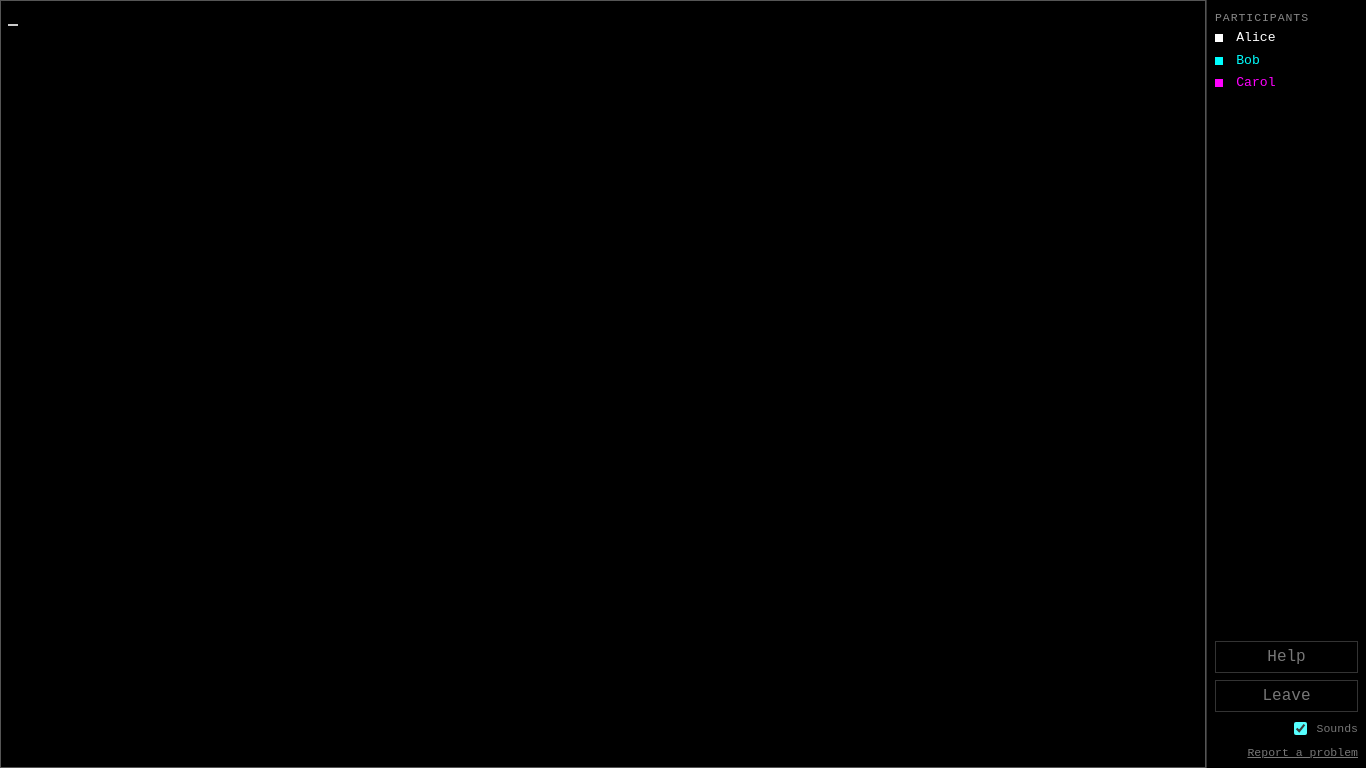
Sending a private message › while disconnected the text is kept and a notice shows
This screenshot has width=1366, height=768.
Expected: the text "Carol" is shown, [1236,72,1276,94]
Click the button "Bob" at (1286, 61), box [1215,50,1358,72]
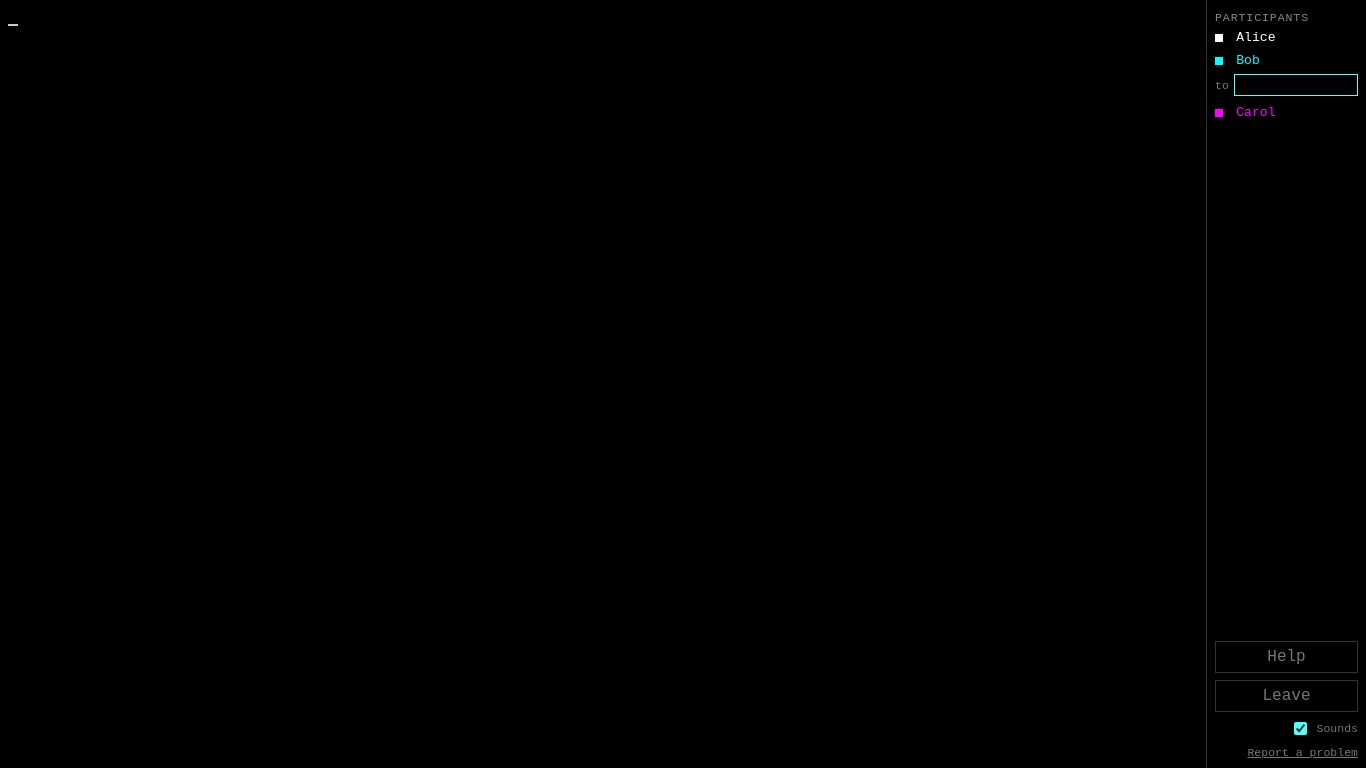
Type "lunch?" into the field named "Private message to Bob" at (1296, 85), box [1234,74,1358,96]
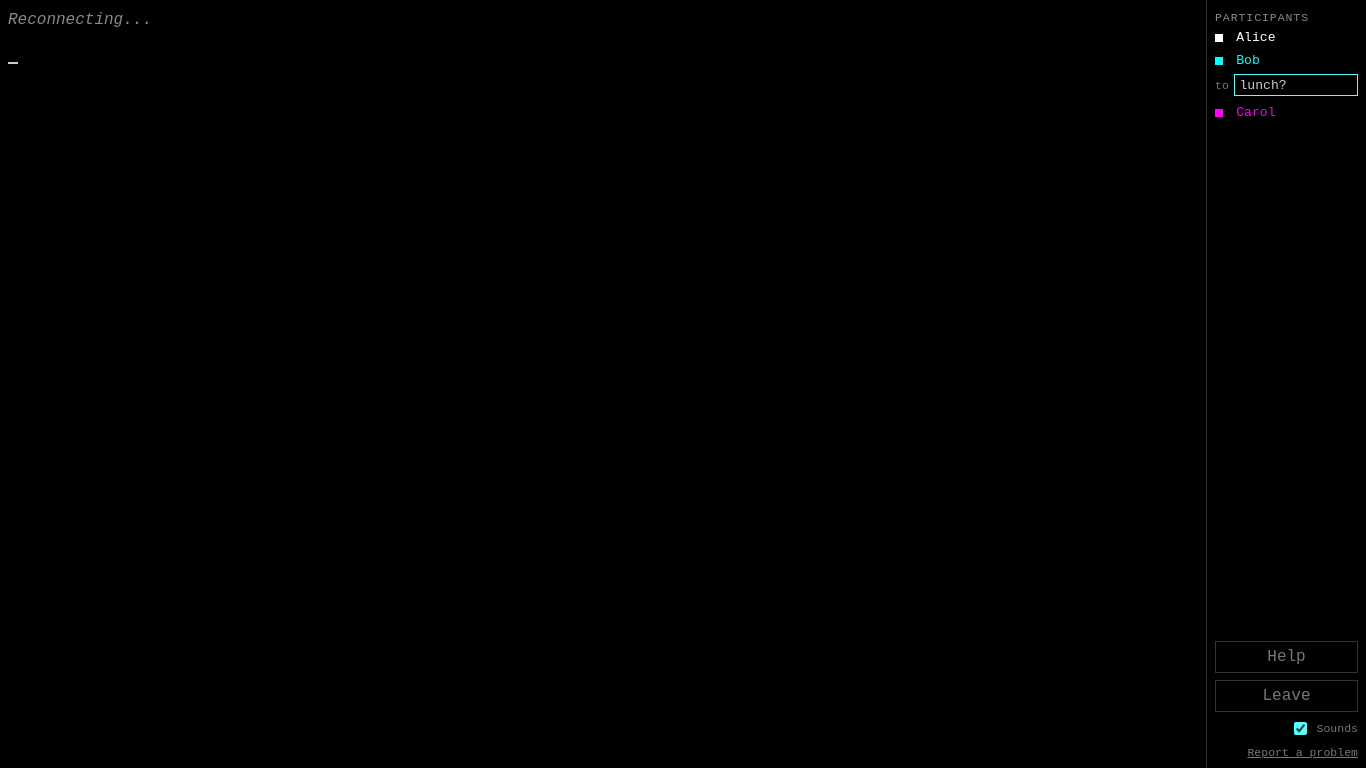
Press Enter
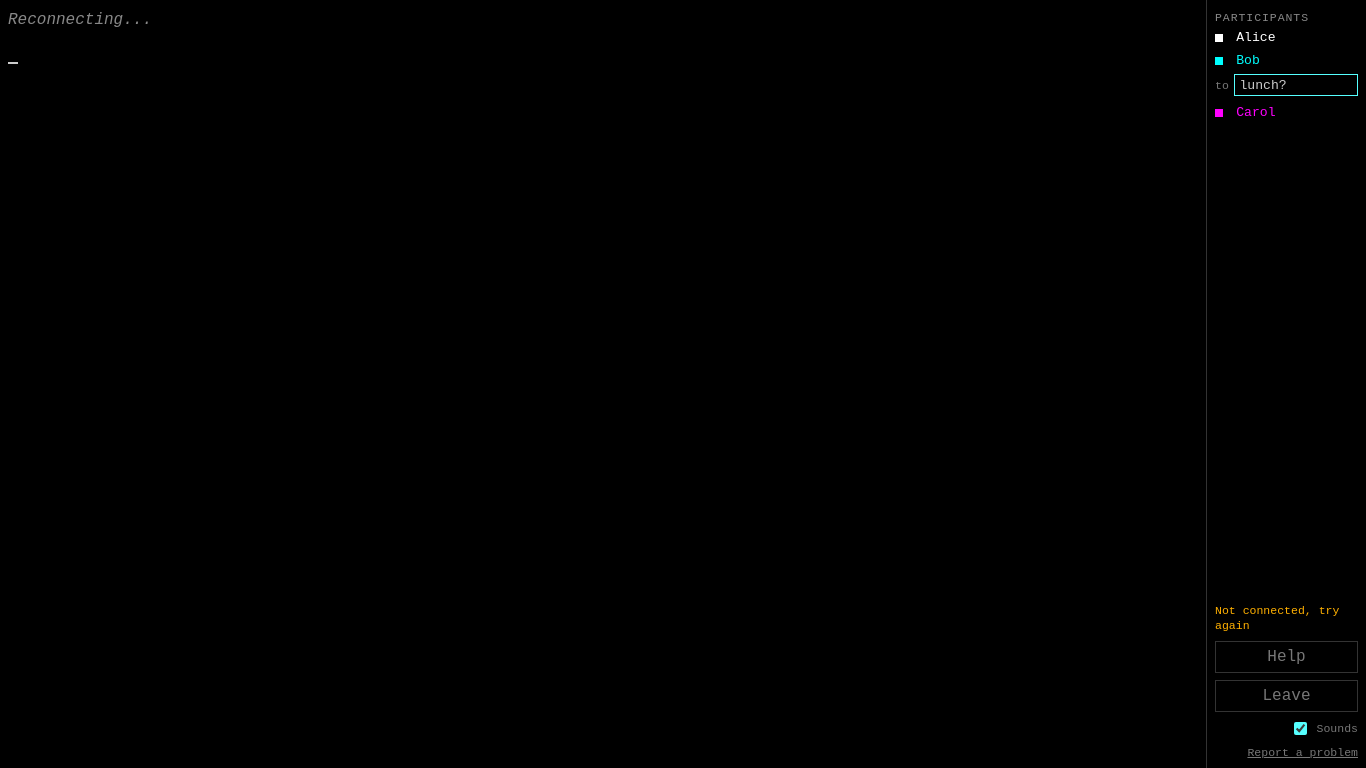
Expected: the text "Not connected, try again" is shown, [1215,604,1358,634]
